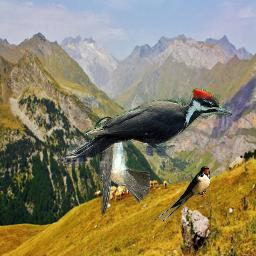Swallow: (94, 116, 150, 217), (158, 166, 210, 221)
Woodpecker: (66, 88, 232, 158)
